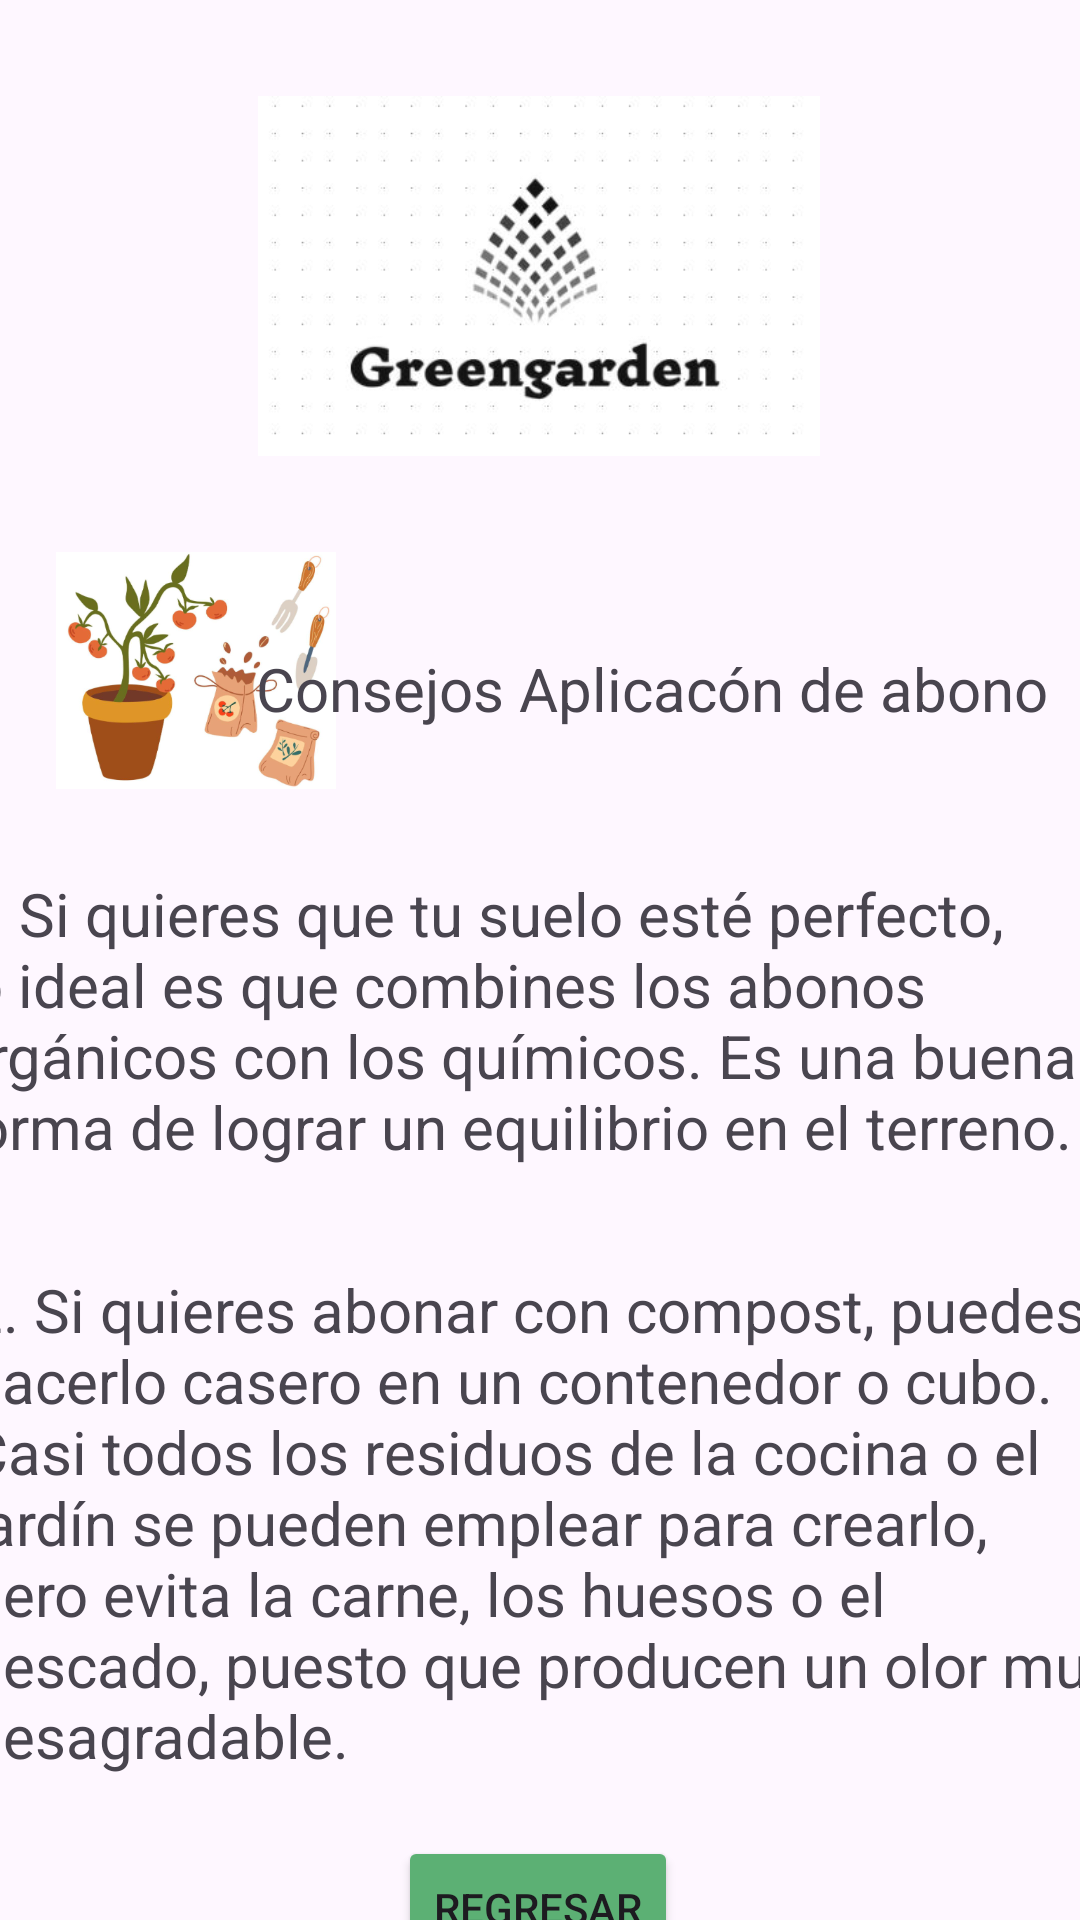

Icons on this 1080 × 1920 Android screen, each with its box as rect(x1, y1, x2, y2):
consejoabono: rect(68, 554, 330, 787)
